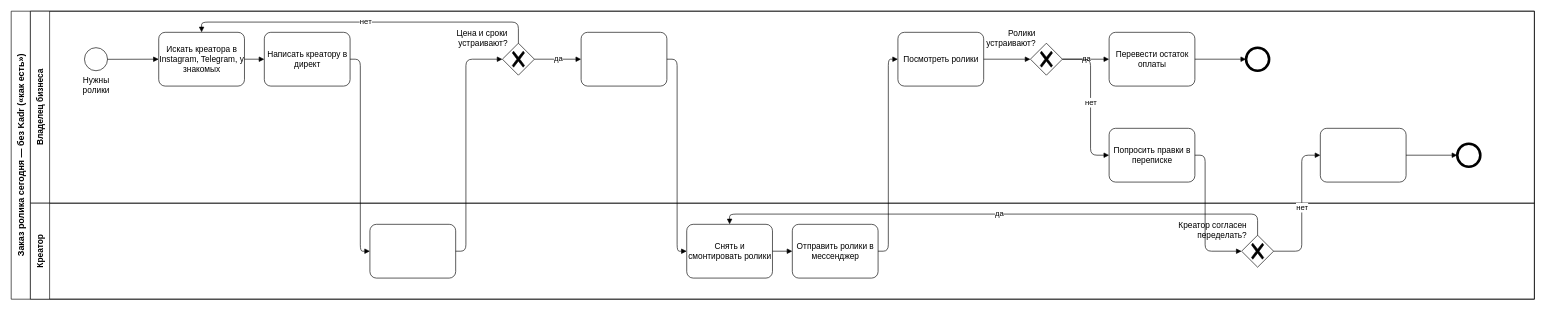
Image size: 1546x310. Some labels were removed from this diagram. The shapes that lost their labels are listed below. From the top down, each one's centre as x and y in pixels, then its label:
the point at 623,59: Перевести предоплату на карту
the point at 1257,59: Ролики получены
the point at 1363,155: Спорить в переписке
the point at 1468,155: Деньги и время потеряны
the point at 412,251: Ответить и назвать цену
